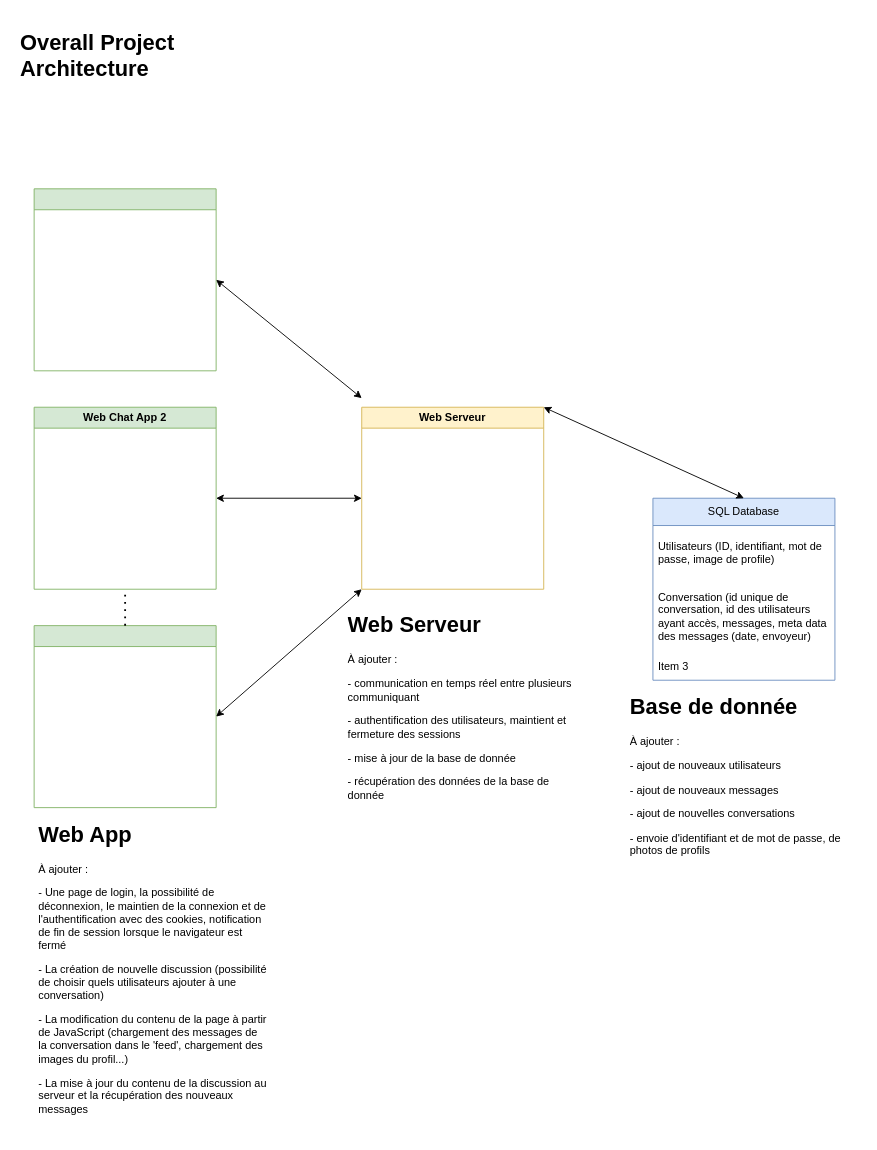
Some shapes in this 877 by 1150 pixel diagram are drawn without their labels. The shapes that lost their labels are listed below. From the top down, each one's centre as x and y in pixels, then its label:
At point (124, 279): "Web Chat App 1".
At point (124, 716): "Web Chat App n".
